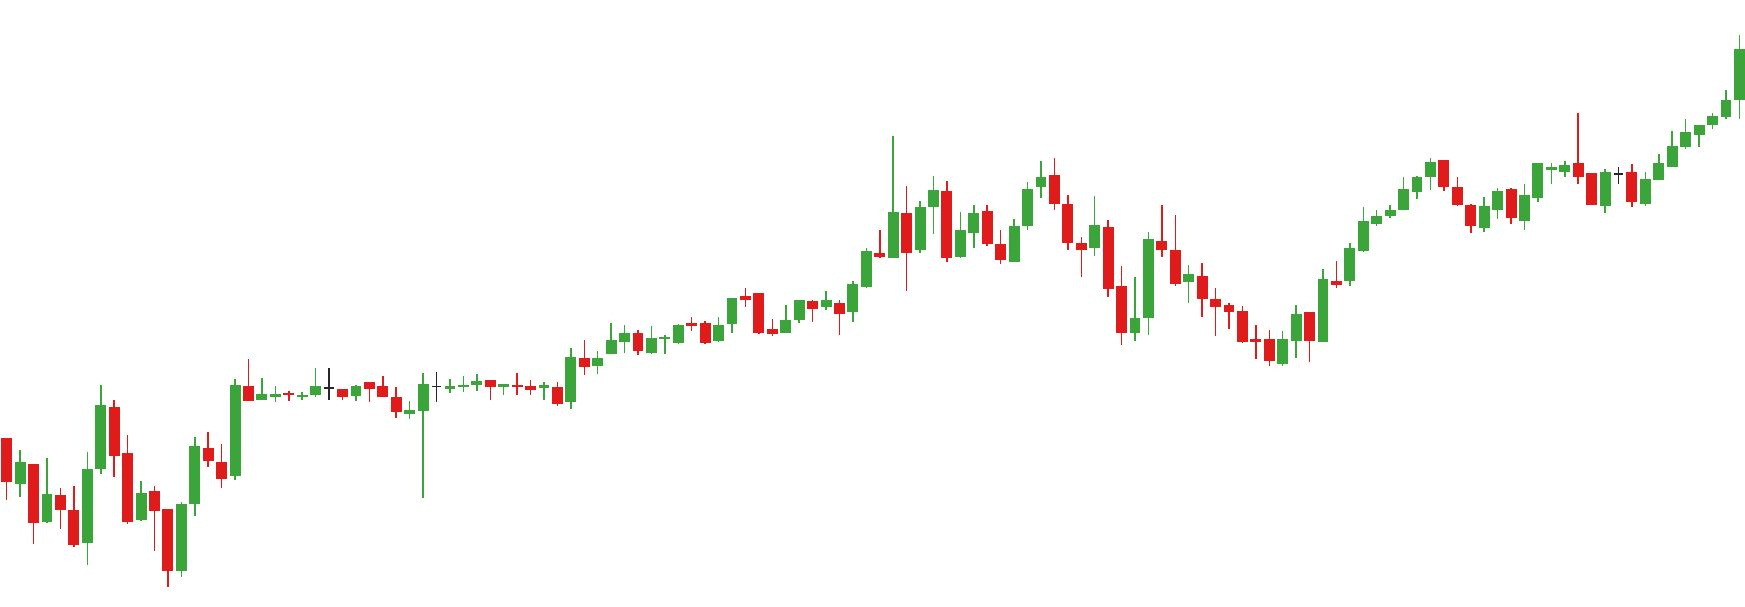buy: (1113, 244, 1305, 373)
sell: (927, 158, 1064, 234)
